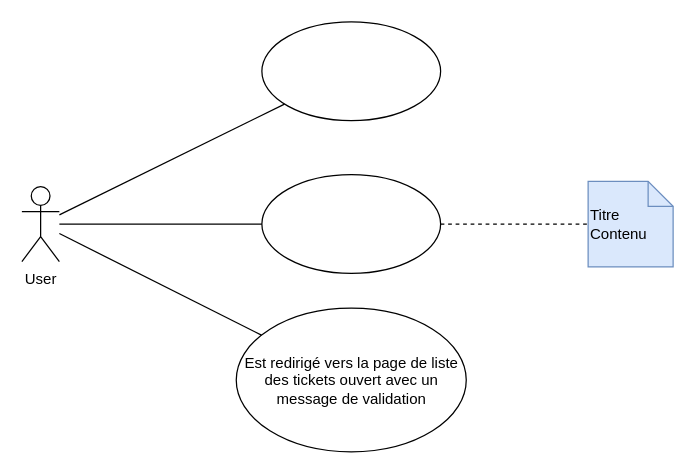
Some shapes in this 695 by 474 pixel diagram are drawn without their labels. Each missing label, with the centre of its shape:
"Accède à la page 'création d'une nouvelle task' (createTask)" goes at (x=351, y=71).
"Rempli le formulaire" goes at (x=351, y=223).
